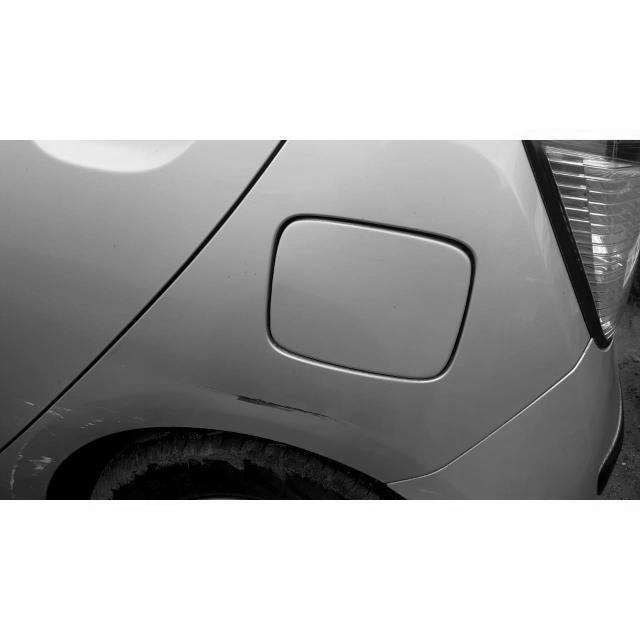quaterpanel-dent: (94, 341, 464, 500), (45, 405, 303, 499)
